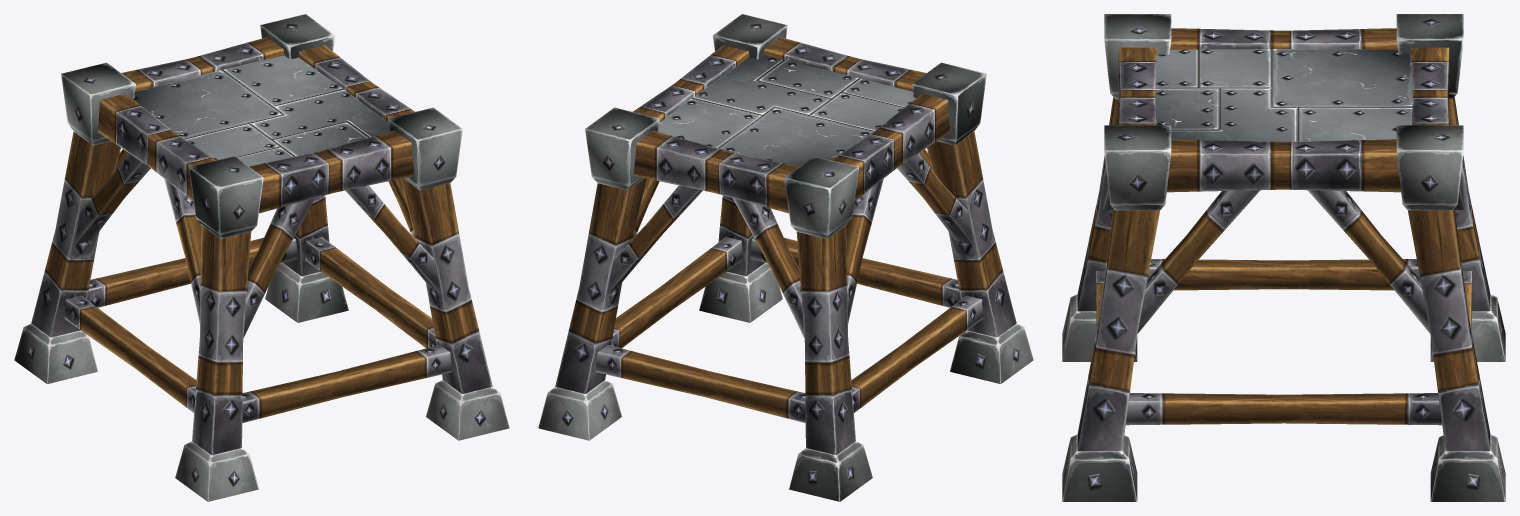
Rendered from Tower_B_L3.FBX.
3 views of the same model, side by side, from view 1: azimuth 30°, elevation 25°; view 2: azimuth 150°, elevation 25°; view 3: azimuth 270°, elevation 25° (orthographic). The views are drawn at different scales.
Parts seen in each view (by area): view 1: Object021; view 2: Object021; view 3: Object021.
Part boxes in pixels (bbox=[...]): Object021: bbox=[14, 14, 509, 501]; Object021: bbox=[538, 14, 1033, 501]; Object021: bbox=[1062, 14, 1505, 501].
Size of the model in its own units: 3.68 by 4.09 by 3.42.
